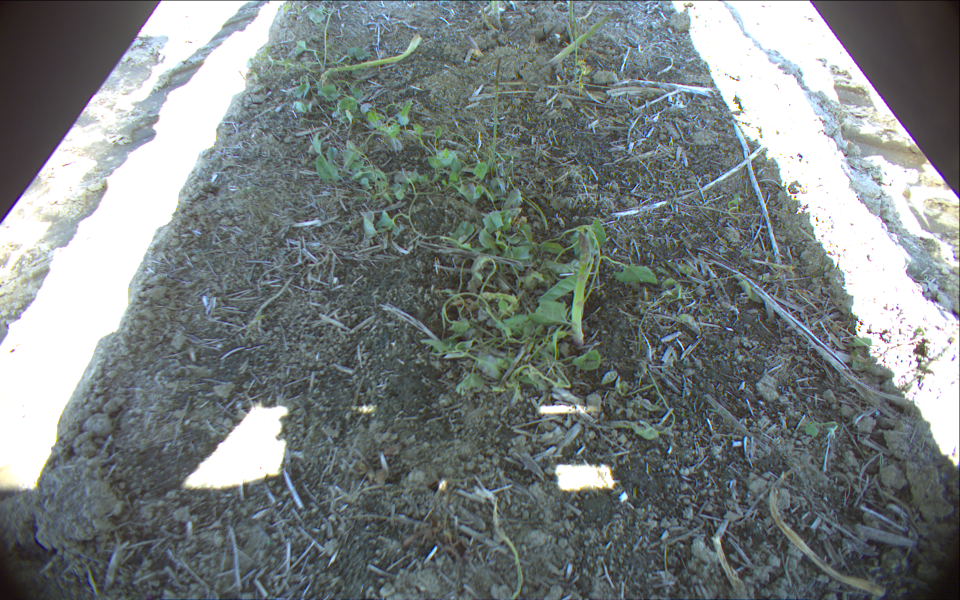aspa: (543, 9, 624, 67), (567, 231, 594, 352)
